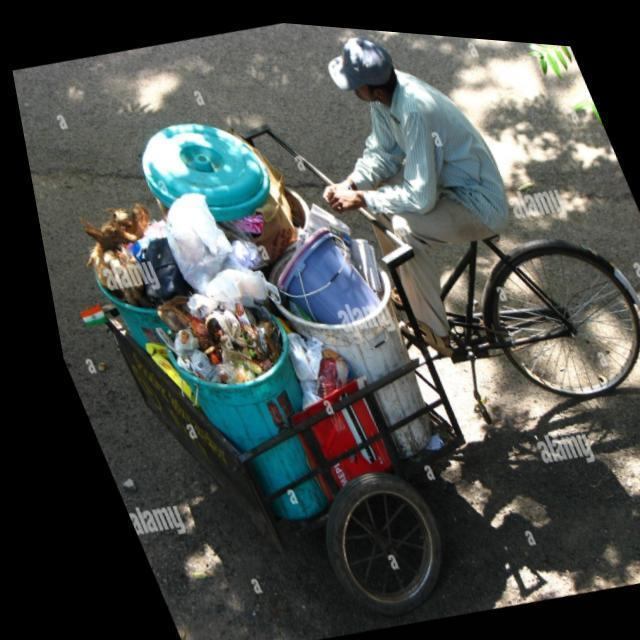Garbage: (75, 120, 397, 448)
Plastic: (136, 120, 264, 217), (268, 222, 370, 319)
Plastic_Bag: (158, 190, 223, 291), (196, 236, 269, 304), (276, 329, 311, 378), (118, 217, 158, 258), (176, 347, 204, 379)
Plastic_wraper: (224, 299, 246, 347)
